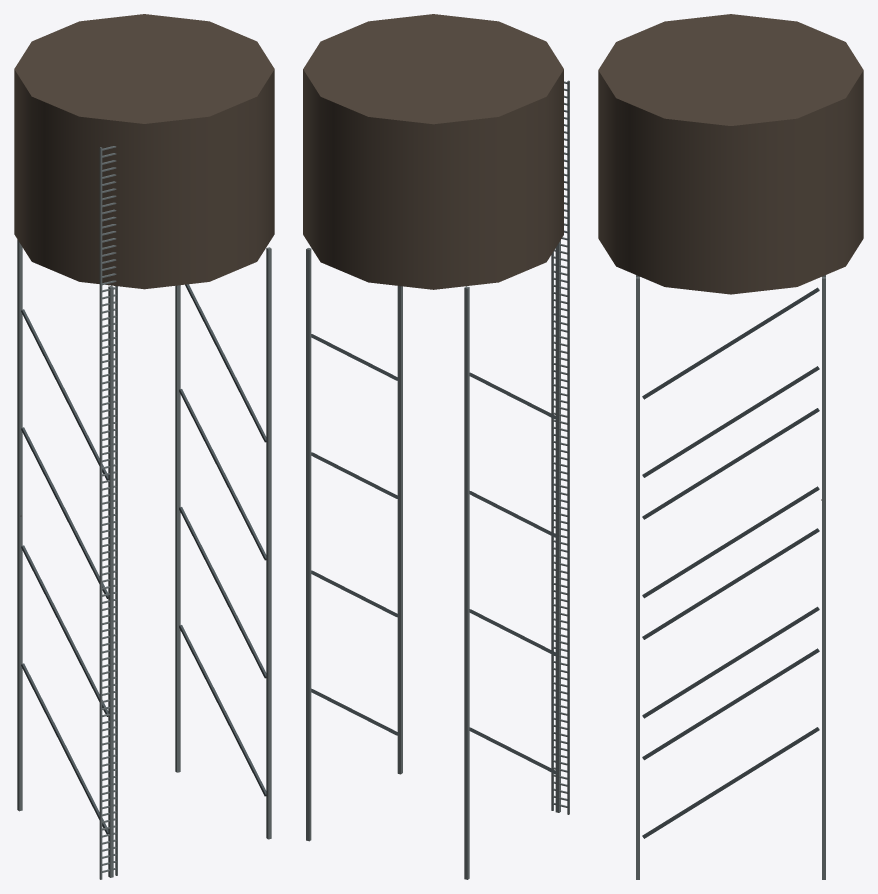
The model's file is water-tower-2.glb.
3 views of the same model, side by side, from view 1: azimuth 30°, elevation 25°; view 2: azimuth 150°, elevation 25°; view 3: azimuth 270°, elevation 25° (orthographic).
Visible parts, largest first — view 1: water-tower/1/KR-230-2; view 2: water-tower/1/KR-230-2; view 3: water-tower/1/KR-230-2.
Part boxes in pixels (bbox=[...]): water-tower/1/KR-230-2: bbox=[14, 14, 274, 879]; water-tower/1/KR-230-2: bbox=[303, 14, 569, 879]; water-tower/1/KR-230-2: bbox=[598, 14, 863, 879].
Bounding box in the file's own units: 10 × 32 × 10.
